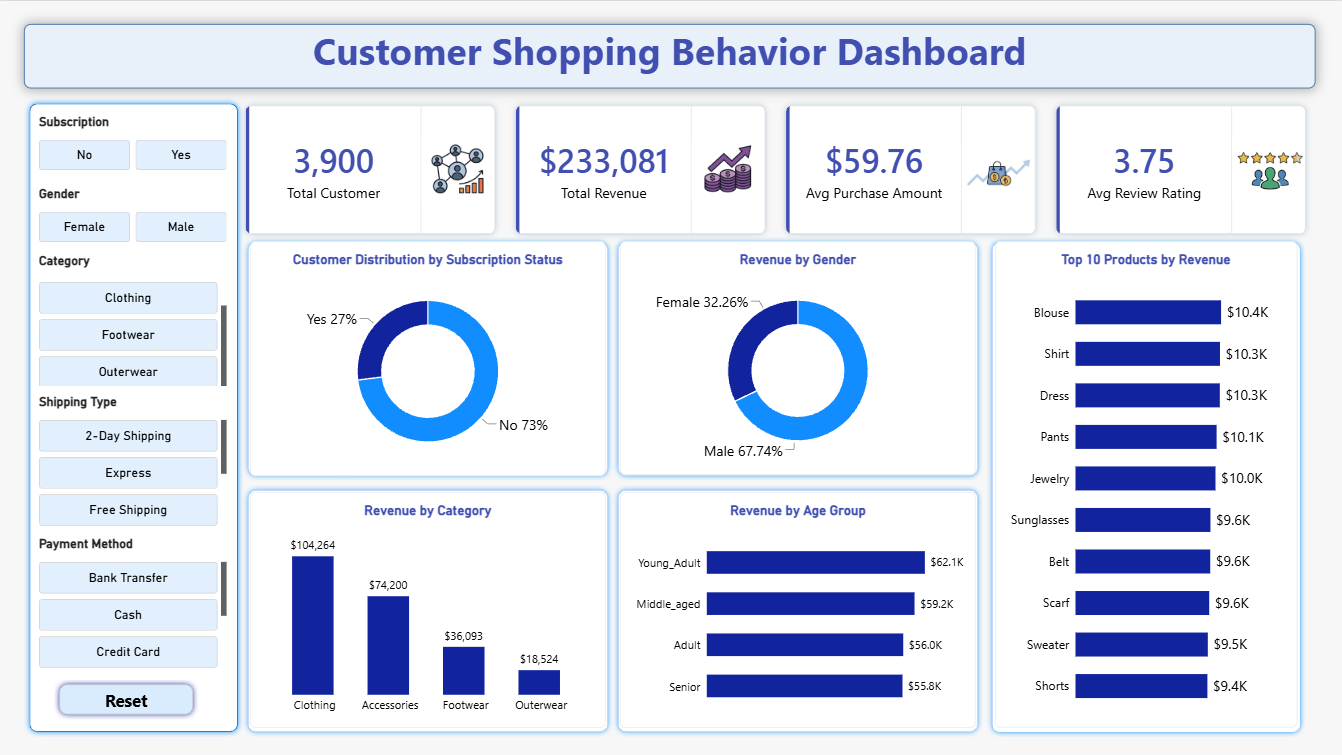

This screenshot's page, from the dashboard's own definition file:
{"tool":"powerbi","page":{"name":"Page 1","canvas":[1920,1080],"ordinal":0},"visuals":[{"type":"shape","box":[878.3,691.7,528.3,360],"z":0},{"type":"shape","box":[878.3,336.7,528.3,348.3],"z":1000},{"type":"shape","box":[350,691.7,528.3,360],"z":2000},{"type":"shape","box":[350,336.7,528.3,348.3],"z":3000},{"type":"cardVisual","fields":{"Data":["customer.Total Customer","customer.Total Revenue","customer.AVG Purchase Amount","customer.Avg Review Rating"]},"box":[343.3,138.3,1538.3,205],"z":4000},{"type":"textbox","box":[36.7,33.3,1845,91.7],"z":5000},{"type":"donutChart","title":"Customer Distribution by Subscription Status","fields":{"Category":["customer.subscription_status"],"Y":["customer.Total Customer"]},"box":[360,343.3,508.3,336],"z":6000},{"type":"clusteredColumnChart","title":"Revenue by Category","fields":{"Category":["customer.category"],"Y":["customer.Total Revenue"]},"box":[360,701.7,508.3,336.7],"z":7000},{"type":"clusteredBarChart","title":"Revenue by Age Group","fields":{"Category":["customer.age_group"],"Y":["customer.Total Revenue"]},"box":[888.3,701.7,508.3,336.7],"z":8000},{"type":"donutChart","title":"Revenue by Gender","fields":{"Category":["customer.gender"],"Y":["customer.Total Revenue"]},"box":[888.3,343.3,508.3,334],"z":9000},{"type":"shape","box":[1413.3,336.7,455,715],"z":10000},{"type":"clusteredBarChart","title":"Top 10 Products by Revenue","fields":{"Category":["customer.item_purchased"],"Y":["customer.Total Revenue"]},"box":[1425,343.3,431.7,695],"z":11000},{"type":"shape","box":[36.7,138.3,313.3,913.3],"z":12000},{"type":"advancedSlicerVisual","title":"Subscription","fields":{"Values":["customer.subscription_status"]},"box":[58.6,161.4,268.6,80],"z":13000},{"type":"advancedSlicerVisual","title":"Gender","fields":{"Values":["customer.gender"]},"box":[58.6,264.3,268.6,80],"z":14000},{"type":"advancedSlicerVisual","title":"Category","fields":{"Values":["customer.category"]},"box":[58.6,360,268.9,190],"z":15000},{"type":"advancedSlicerVisual","title":"Shipping Type","fields":{"Values":["customer.shipping_type"]},"box":[58.6,561.4,268.9,190],"z":16000},{"type":"advancedSlicerVisual","title":"Payment Method","fields":{"Values":["customer.payment_method"]},"box":[58.6,764.3,268.9,190],"z":17000},{"type":"actionButton","box":[80,968.6,206.4,58.2],"z":18000}]}

Visuals, with their boxes in screenshot pixels (x1, y1, x2, y2), scaled from the page's 1920x1080 canvas onto the 1342x755 screenshot:
shape: [614,484,983,735]
shape: [614,235,983,479]
shape: [245,484,614,735]
shape: [245,235,614,479]
cardVisual - customer.Total Customer x customer.Total Revenue: [240,97,1315,240]
textbox: [26,23,1315,87]
"Customer Distribution by Subscription Status" donutChart: [252,240,607,475]
"Revenue by Category" clusteredColumnChart: [252,491,607,726]
"Revenue by Age Group" clusteredBarChart: [621,491,976,726]
"Revenue by Gender" donutChart: [621,240,976,473]
shape: [988,235,1306,735]
"Top 10 Products by Revenue" clusteredBarChart: [996,240,1298,726]
shape: [26,97,245,735]
"Subscription" advancedSlicerVisual: [41,113,229,169]
"Gender" advancedSlicerVisual: [41,185,229,241]
"Category" advancedSlicerVisual: [41,252,229,384]
"Shipping Type" advancedSlicerVisual: [41,392,229,525]
"Payment Method" advancedSlicerVisual: [41,534,229,667]
actionButton: [56,677,200,718]
